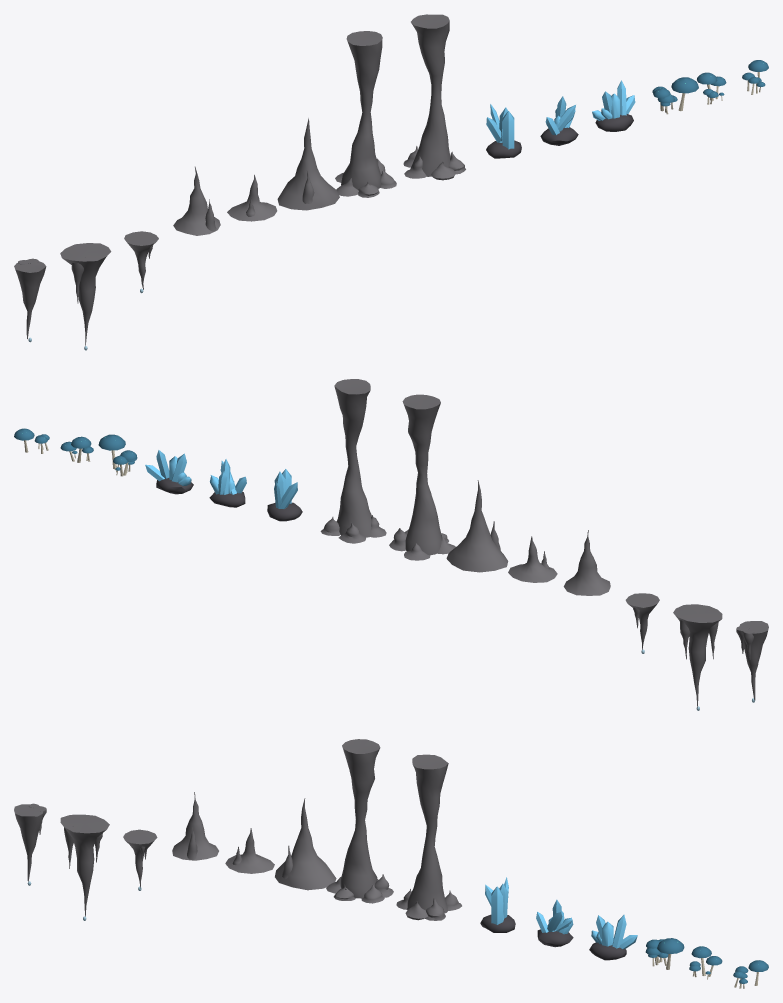
File: GrotteDecor.fbx
The picture shows the model from 3 angles, top to bottom: view 1: azimuth 30°, elevation 25°; view 2: azimuth 150°, elevation 25°; view 3: azimuth 330°, elevation 25°; orthographic projection.
Parts seen in each view (by area): view 1: Colonne2_Roche, Colonne1_Roche, Stalagmite3_Roche, Stalactite2_Roche, Stalagmite1_Roche, Stalactite1_Roche, Stalagmite2_Roche, Cristal3_Cristal, Cristal1_Cristal, Stalactite3_Roche, Champignon1_Chapeau, Cristal2_Cristal; view 2: Colonne1_Roche, Colonne2_Roche, Stalagmite3_Roche, Stalactite2_Roche, Stalagmite1_Roche, Stalactite1_Roche, Stalagmite2_Roche, Cristal3_Cristal, Stalactite3_Roche, Cristal2_Cristal, Cristal1_Cristal, Champignon1_Chapeau; view 3: Colonne1_Roche, Colonne2_Roche, Stalagmite3_Roche, Stalactite2_Roche, Stalagmite1_Roche, Stalactite1_Roche, Stalagmite2_Roche, Cristal3_Cristal, Stalactite3_Roche, Cristal1_Cristal, Cristal2_Cristal, Champignon1_Chapeau (+3 smaller).
Boxes of the visible parts, x1,y1,x2,y2 form: Colonne2_Roche: (403,14,465,180); Colonne1_Roche: (335,31,396,197); Stalagmite3_Roche: (277,118,339,210); Stalactite2_Roche: (60,243,111,345); Stalagmite1_Roche: (173,166,220,235); Stalactite1_Roche: (14,258,46,338); Stalagmite2_Roche: (227,174,277,221); Cristal3_Cristal: (592,80,635,120); Cristal1_Cristal: (486,104,514,149); Stalactite3_Roche: (124,231,158,289); Champignon1_Chapeau: (652,77,698,106); Cristal2_Cristal: (545,96,575,135); Colonne1_Roche: (389,394,455,560); Colonne2_Roche: (320,379,386,543); Stalagmite3_Roche: (446,480,508,572); Stalactite2_Roche: (673,604,722,707); Stalagmite1_Roche: (563,530,610,595); Stalactite1_Roche: (736,621,768,700); Stalagmite2_Roche: (508,536,557,582); Cristal3_Cristal: (145,450,191,485); Stalactite3_Roche: (625,593,659,649); Cristal2_Cristal: (209,459,246,494); Cristal1_Cristal: (274,469,297,508); Champignon1_Chapeau: (98,434,137,470); Colonne1_Roche: (326,739,393,903); Colonne2_Roche: (396,754,461,920); Stalagmite3_Roche: (275,798,336,890); Stalactite2_Roche: (60,814,109,916); Stalagmite1_Roche: (172,792,218,860); Stalactite1_Roche: (14,803,46,881); Stalagmite2_Roche: (225,828,274,873); Cristal3_Cristal: (591,914,637,949); Stalactite3_Roche: (123,829,157,888); Cristal1_Cristal: (485,877,508,924); Cristal2_Cristal: (536,899,573,934); Champignon1_Chapeau: (645,938,684,957).
Bounding box in the file's own units: 109 × 33.52 × 8.33.
